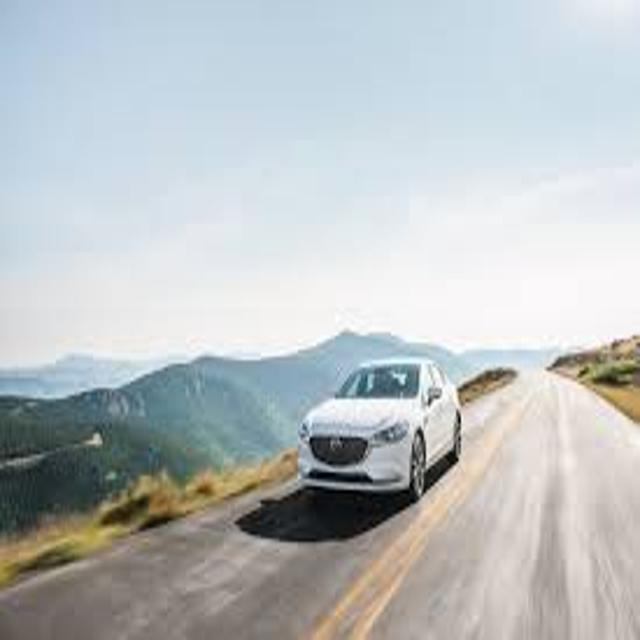car: (298, 358, 461, 499)
